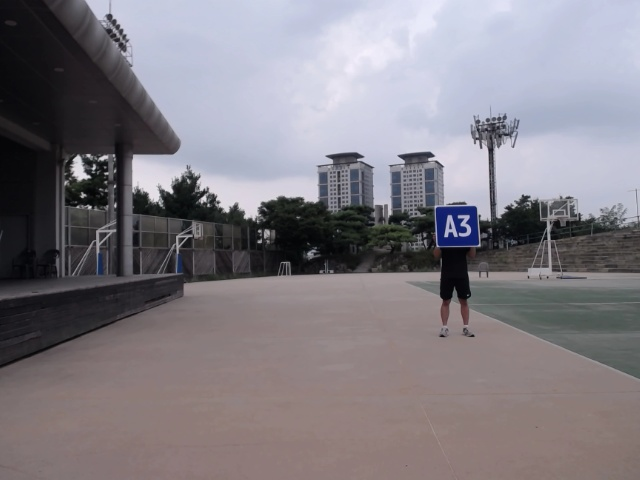delivery_a3: (434, 205, 482, 247)
